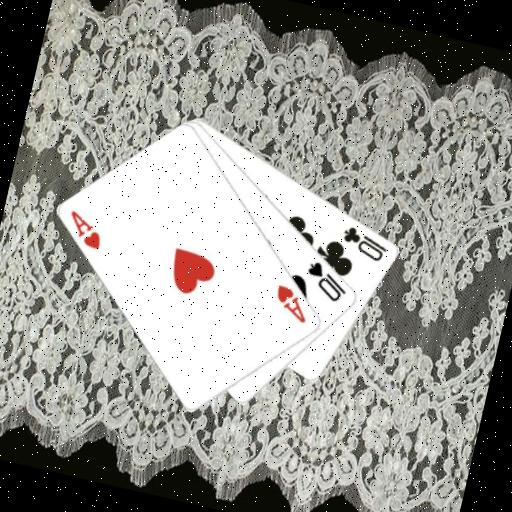10C: (336, 222, 393, 265)
10S: (299, 256, 354, 306)
AH: (61, 206, 109, 253), (268, 280, 315, 326)
